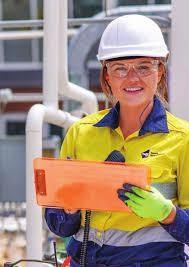helmet: (96, 14, 169, 62)
